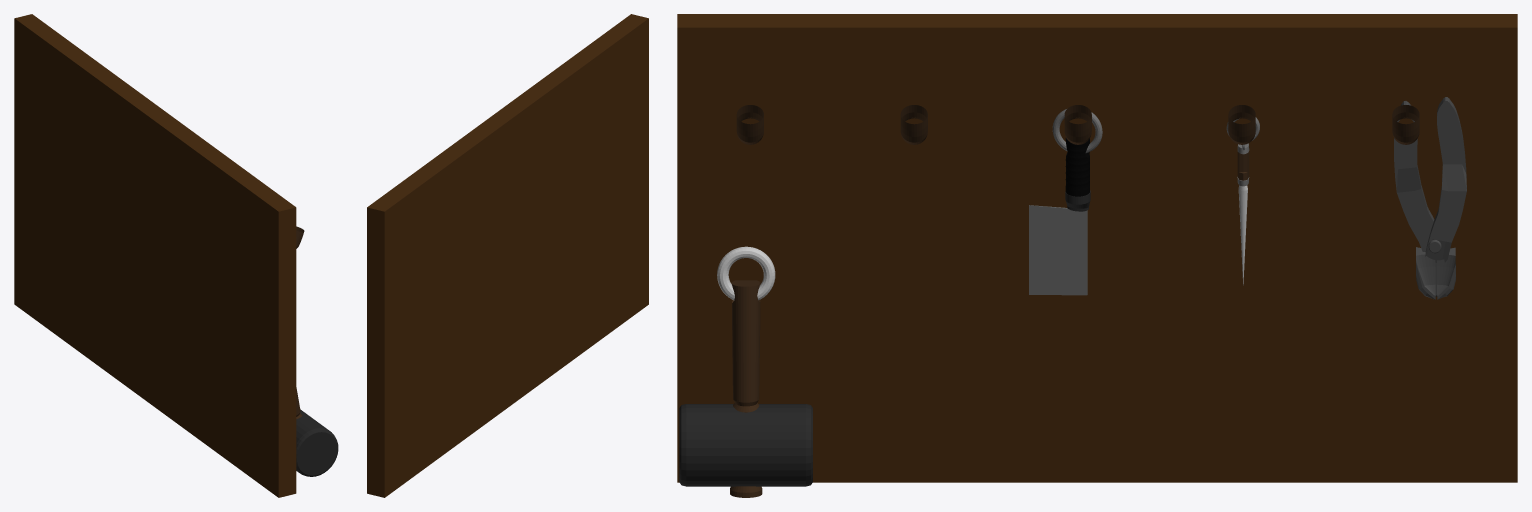
File: Wall of tools.fbx
The picture shows the model from 3 angles, left to right: view 1: azimuth 30°, elevation 25°; view 2: azimuth 150°, elevation 25°; view 3: azimuth 270°, elevation 25°; orthographic projection. The views are drawn at different scales.
Visible parts, largest first — view 1: Cylinder.002; view 2: Cylinder.002; view 3: Cylinder.002.
Boxes of the visible parts, x1,y1,x2,y2 form: Cylinder.002: (14,14,338,497); Cylinder.002: (367,14,648,497); Cylinder.002: (677,14,1517,497).
Size of the model in its own units: 152 by 674 by 1127.
